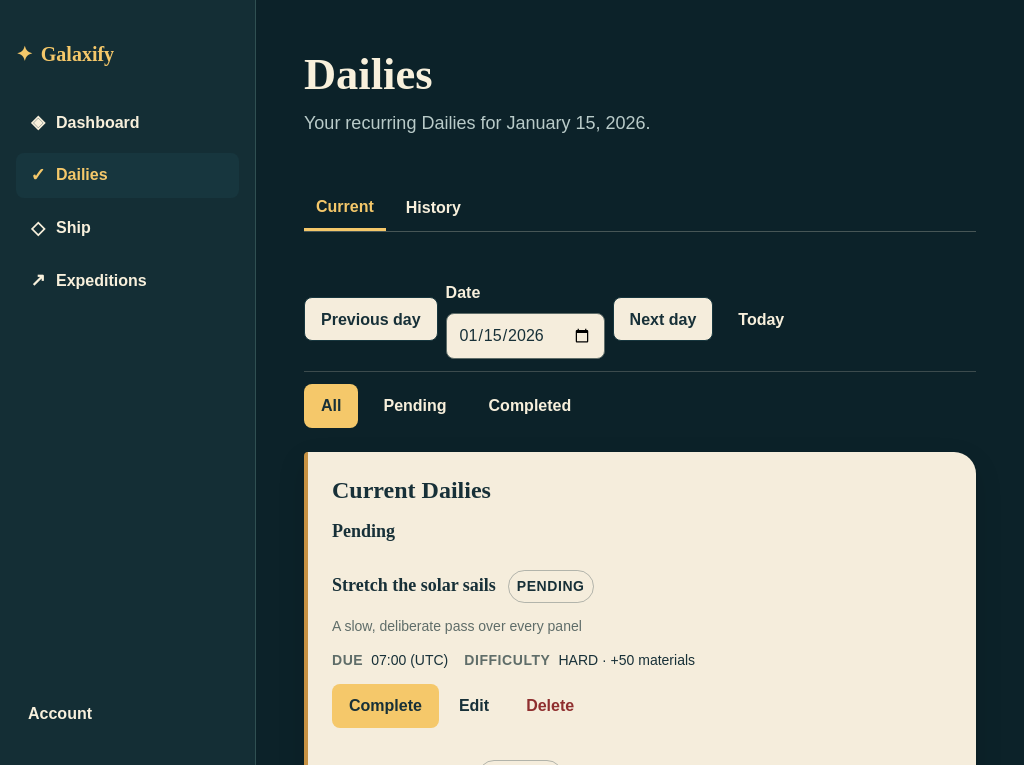
/dailies current list › navigates between days with previous/next/Today and a date input
expect the heading "Dailies" is shown: met, box [304,49,432,99]
Click the button "Next day". click: coordinates (663, 319)
box: [613,297,713,341]
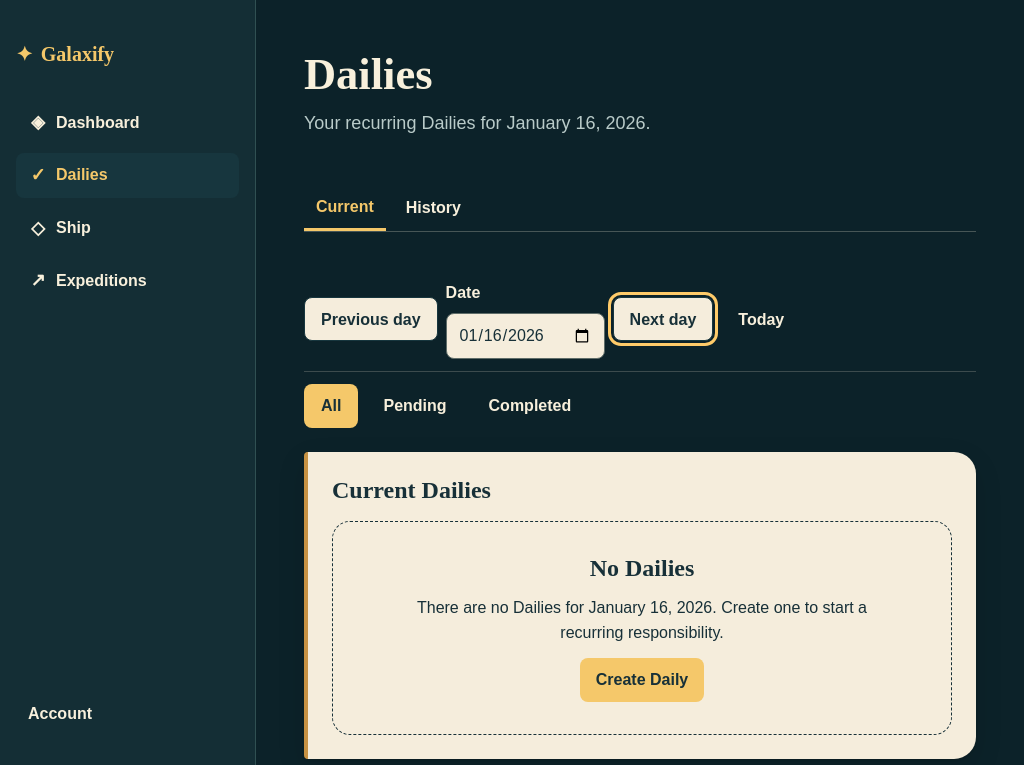
expect the date field labelled "Date" holds "2026-01-16": met, box [446,313,605,359]
expect the heading "No Dailies" is shown: met, box [590,555,694,581]
expect the text "There are no Dailies for January 16, 2026. Create one to start a recurring responsibility." is shown: met, box [417,598,867,641]
Click the button "Previous day". click: coordinates (371, 319)
box: [304,297,438,341]
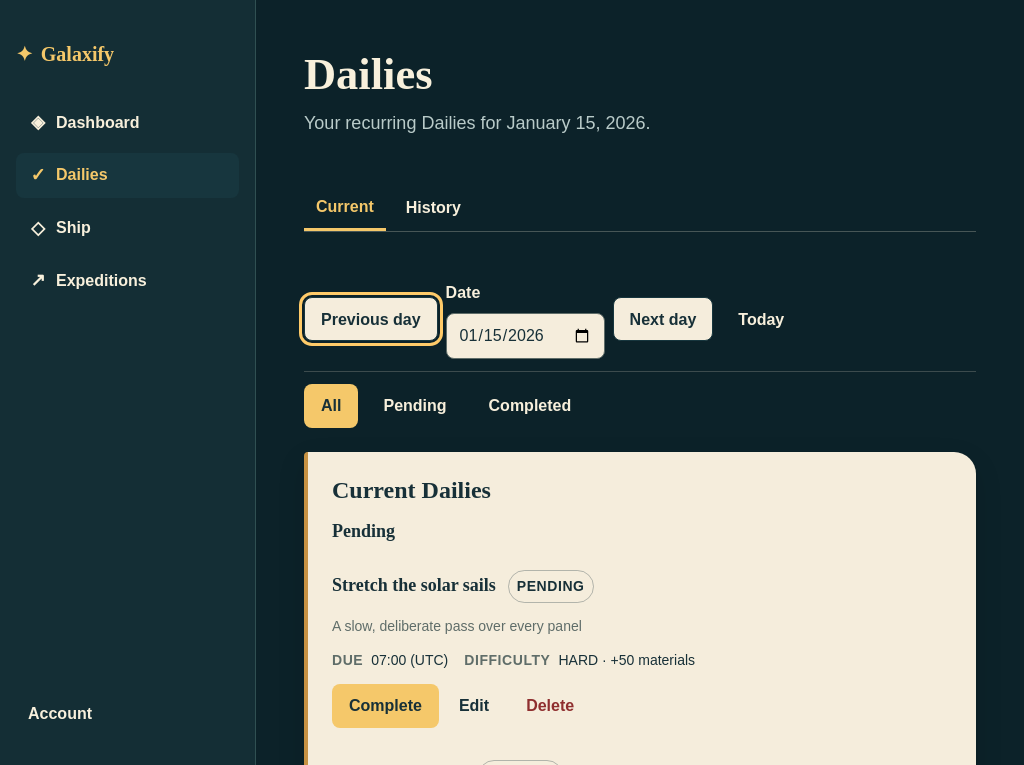
Click the button "Next day". click: coordinates (663, 319)
box: [613,297,713,341]
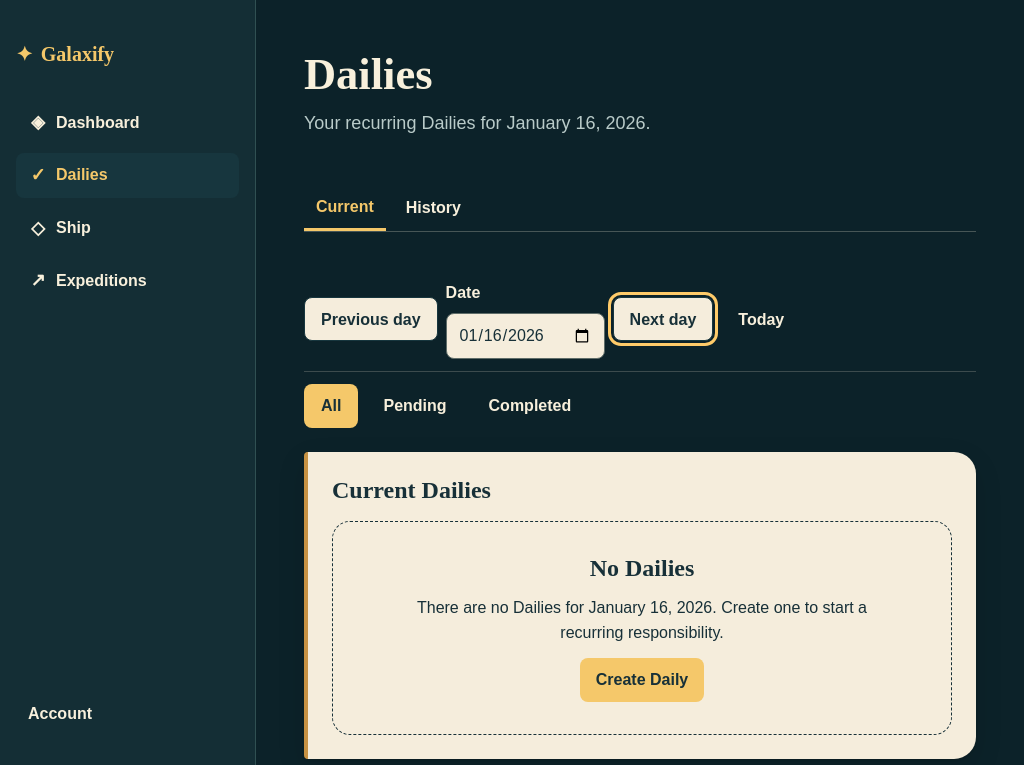
Click the button "Today". click: coordinates (761, 319)
box: [721,297,801,341]
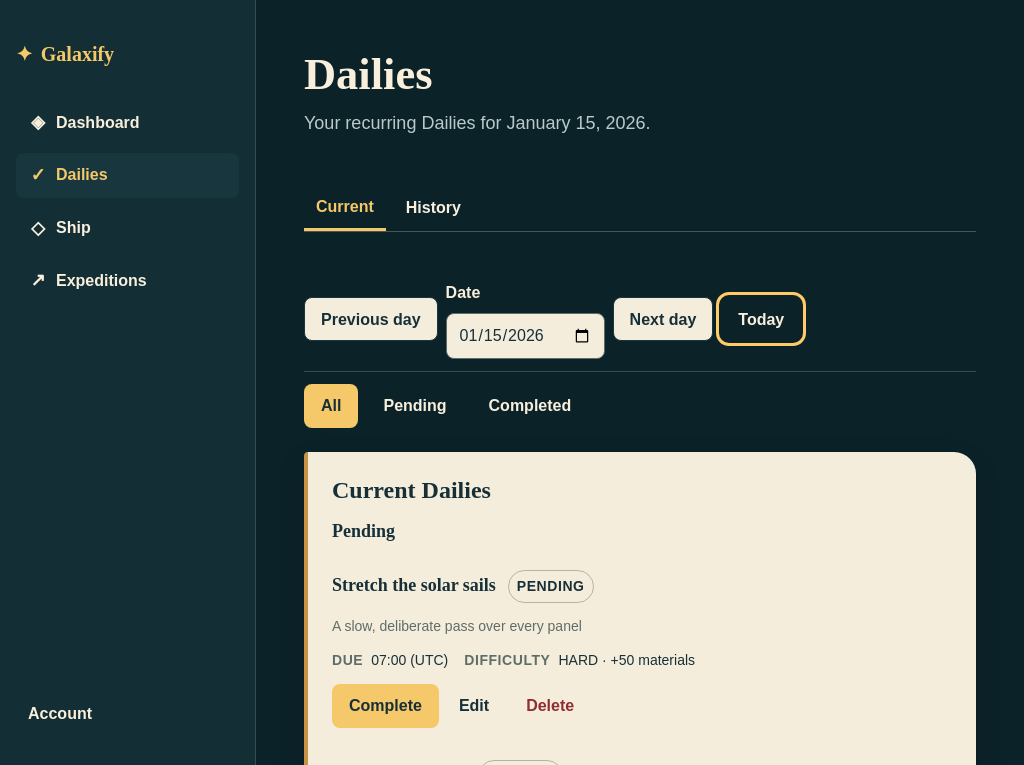
expect the date field labelled "Date" holds "2026-01-15": met
Type "2026-01-14" into the date field labelled "Date". click: coordinates (525, 336)
box: [446,313,605,359]
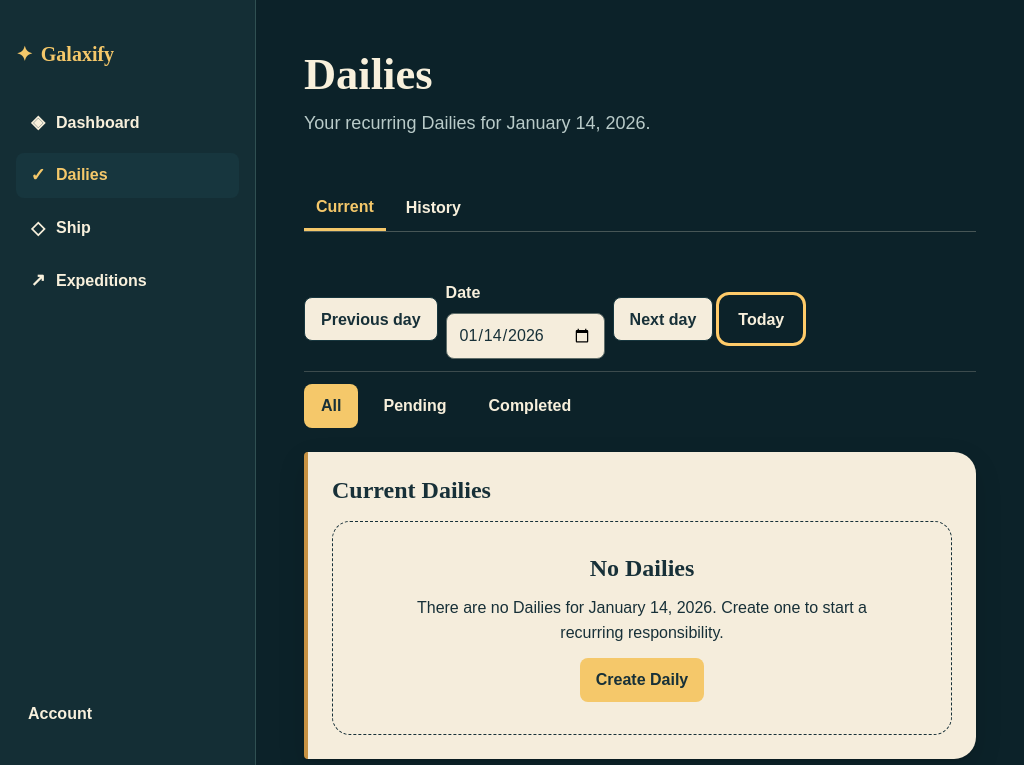
expect the heading "No Dailies" is shown: met, box [590,555,694,581]
